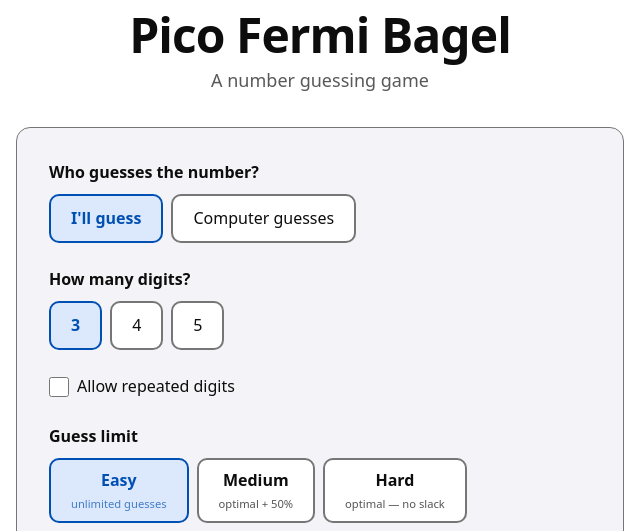
Scenario: SetupScreen › difficulty selector › hides guess-limit sublabels in computer_guesses mode
The width and height of the screenshot is (641, 531).
Click the radio button named "mode".
click(264, 218)  # box [171,194,356,243]
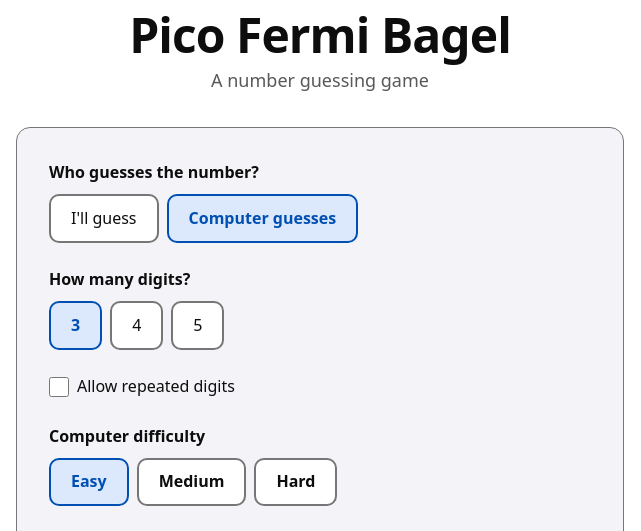
Expected: no elements with class "toggle-option__sub" are shown
